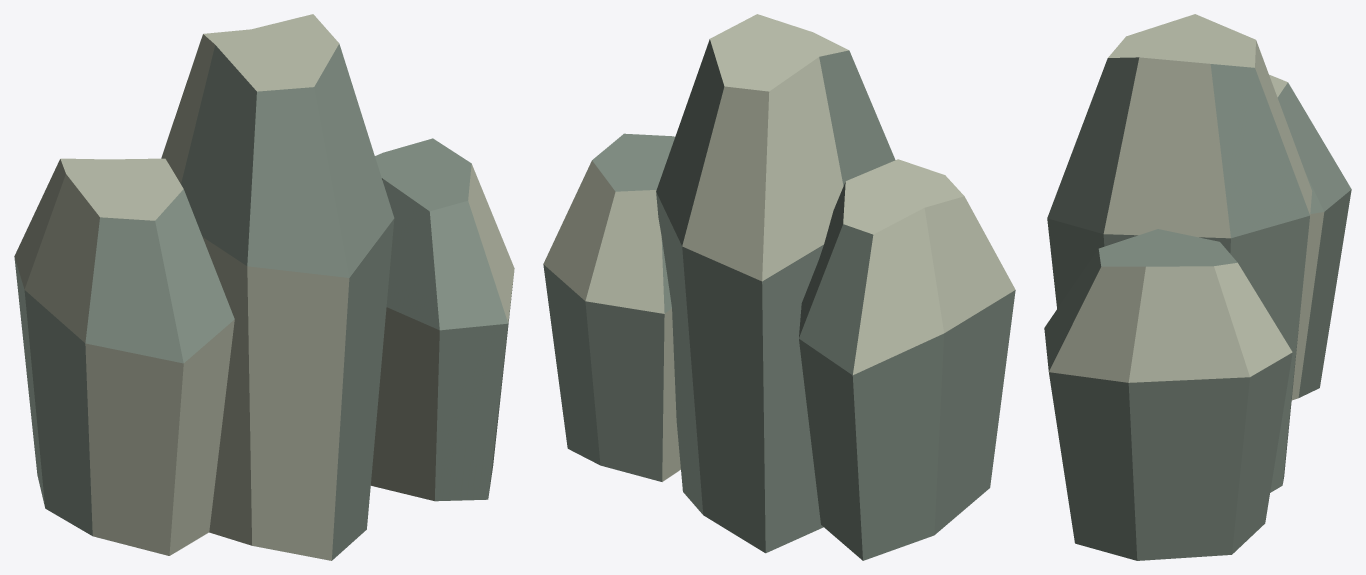
3 views of the same model, side by side, from view 1: azimuth 30°, elevation 25°; view 2: azimuth 150°, elevation 25°; view 3: azimuth 270°, elevation 25° (orthographic). The views are drawn at different scales.
Parts seen in each view (by area): view 1: Silicate_Deposit; view 2: Silicate_Deposit; view 3: Silicate_Deposit.
Part boxes in pixels (x1=…): Silicate_Deposit: x1=14, y1=14, x2=514, y2=560; Silicate_Deposit: x1=543, y1=14, x2=1015, y2=560; Silicate_Deposit: x1=1044, y1=14, x2=1351, y2=560.
Bounding box in the file's own units: 0.84 × 0.9051 × 0.5492.
